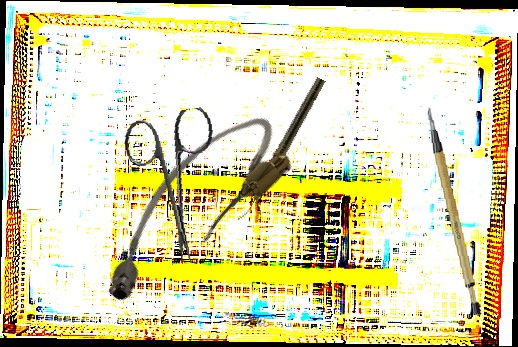Cannula: (75, 99, 303, 317)
Handpiece: (235, 75, 327, 226)
Iris Scissors: (120, 105, 233, 270)
Scalpel Handle: (425, 103, 485, 318)
